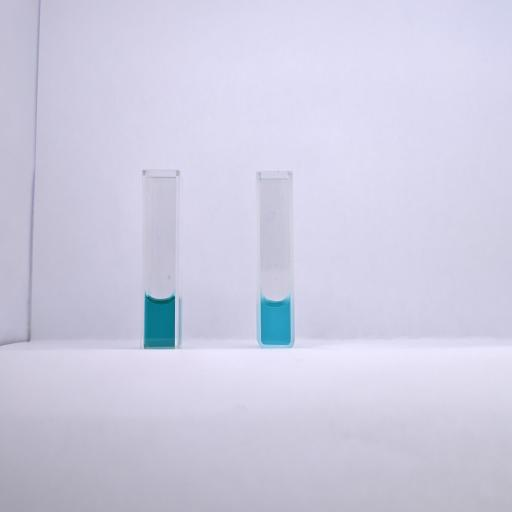cuvette: (138, 168, 182, 352), (254, 168, 296, 350)
liquid: (145, 296, 175, 348), (260, 298, 290, 344)
